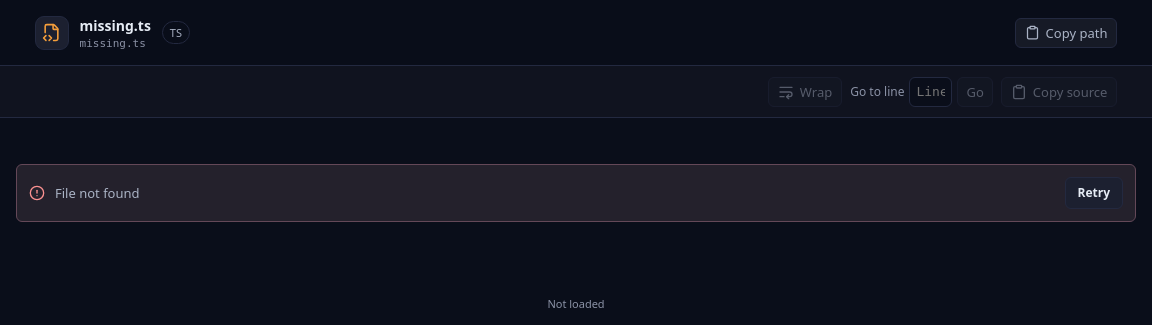
Test: file link viewer › retries file errors with a fresh request
The image size is (1152, 325).
Expected: the message shows "File not found", [55, 184, 140, 202]
Click the button "Retry". click: click(1094, 193)
box: [1064, 177, 1123, 209]
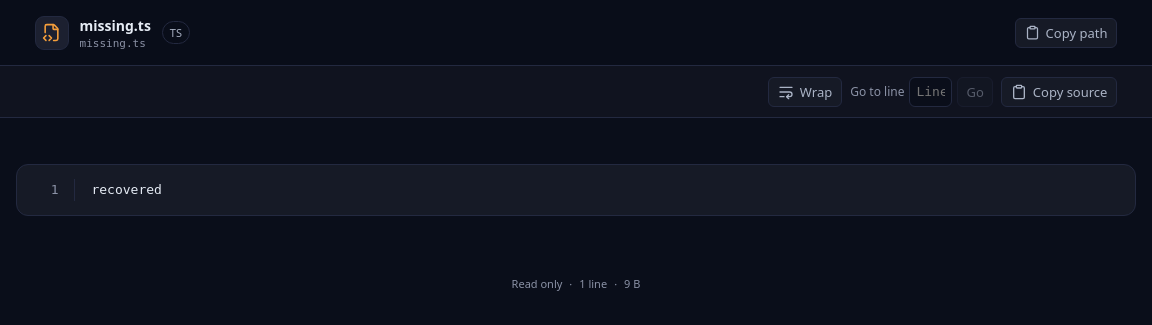
Expected: the text "recovered" is shown, [92, 182, 162, 197]
Expected: the message "File not found Retry" is gone
